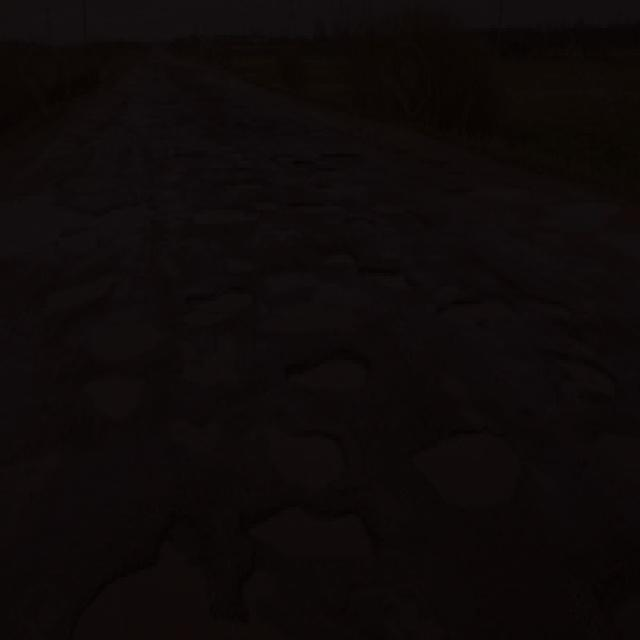Pothole: (49, 509, 290, 640), (0, 184, 163, 263), (52, 270, 170, 379), (403, 422, 526, 514), (239, 498, 382, 568), (258, 259, 368, 340), (251, 417, 350, 494), (272, 342, 389, 394), (536, 344, 624, 401), (74, 360, 152, 421), (587, 556, 640, 640), (170, 284, 258, 328), (436, 294, 517, 336), (354, 252, 417, 292), (283, 148, 360, 177), (524, 289, 576, 330), (194, 200, 258, 232), (283, 195, 349, 221), (373, 199, 415, 220), (172, 144, 207, 167)
